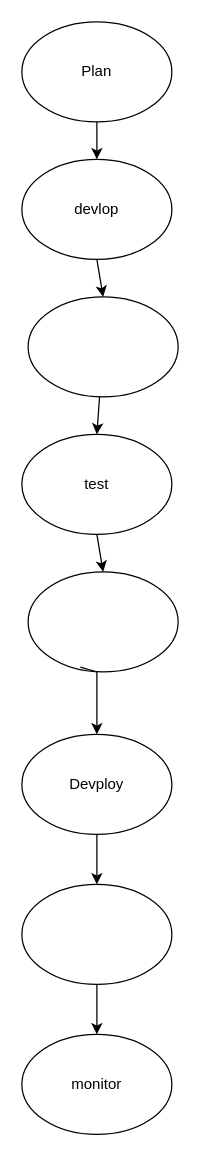
The diagram is 200 pixels wide and 1156 high, and some of its shapes have lost their labels. The centre of each missing label's shape, as x and y in pixels:
build: pixel 102 346
operate: pixel 96 933
release: pixel 102 621
